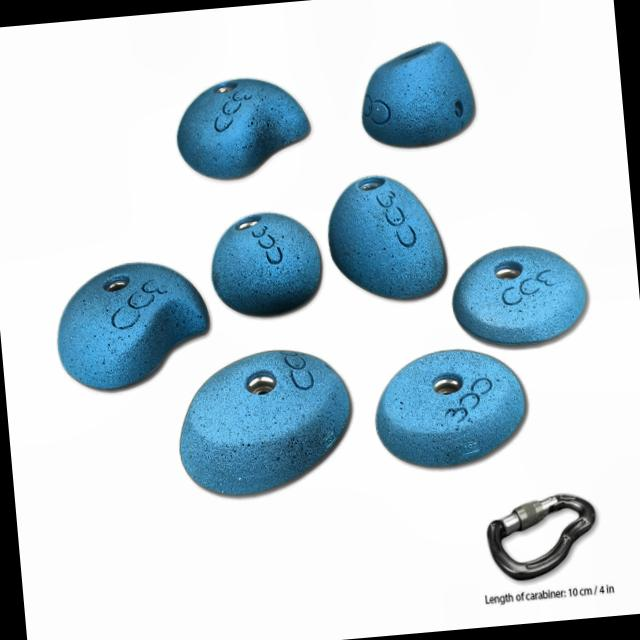Hold: (170, 352, 368, 504), (48, 254, 214, 397), (368, 347, 534, 472), (324, 170, 454, 302), (168, 74, 314, 185), (448, 240, 594, 350), (354, 38, 478, 152), (207, 208, 326, 320)
